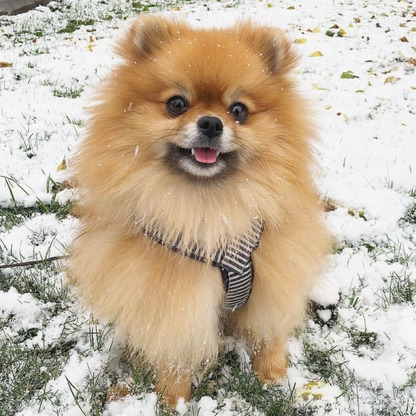Pomeranian: (77, 5, 347, 402)
